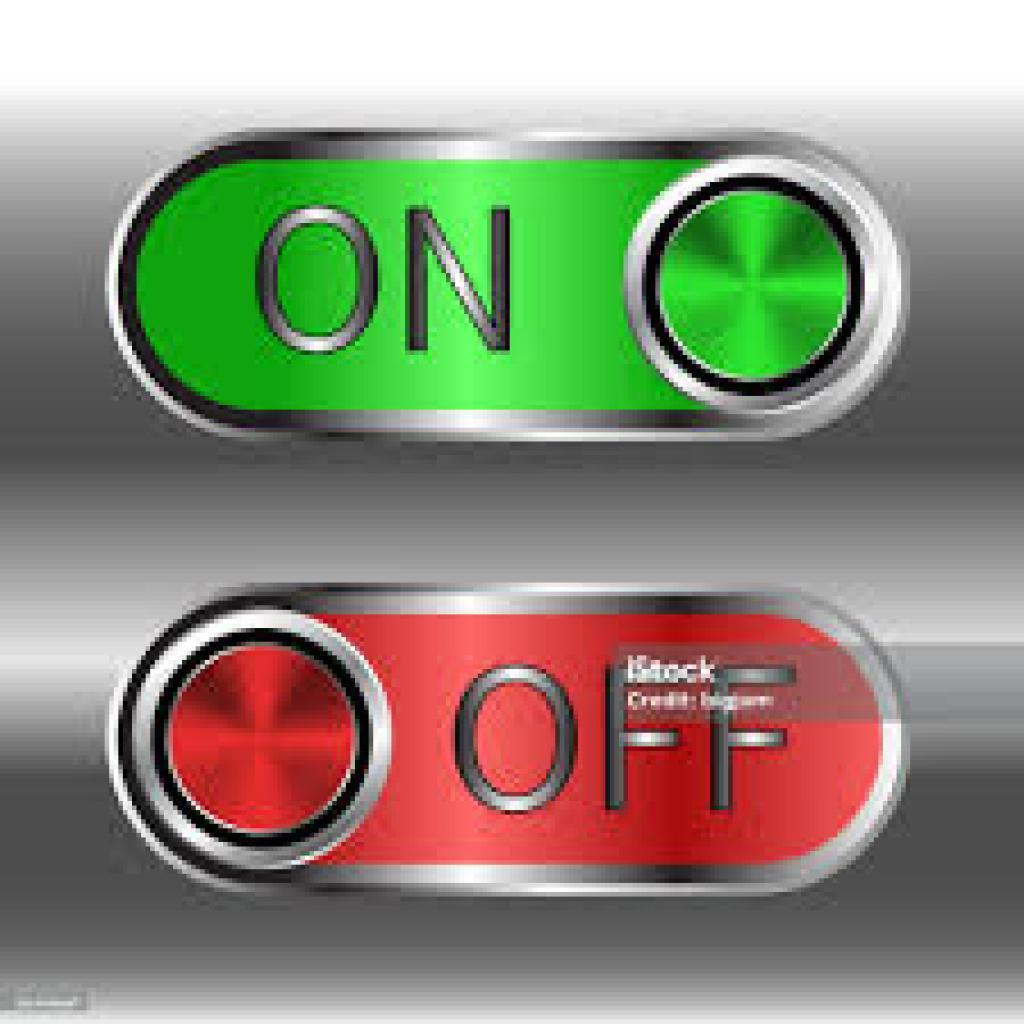switch: (93, 574, 949, 900), (100, 110, 910, 452)
